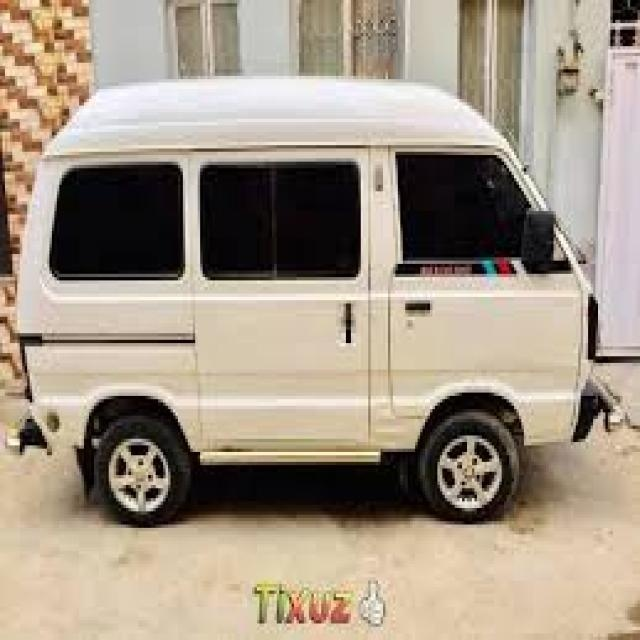Van: (15, 76, 628, 531)
